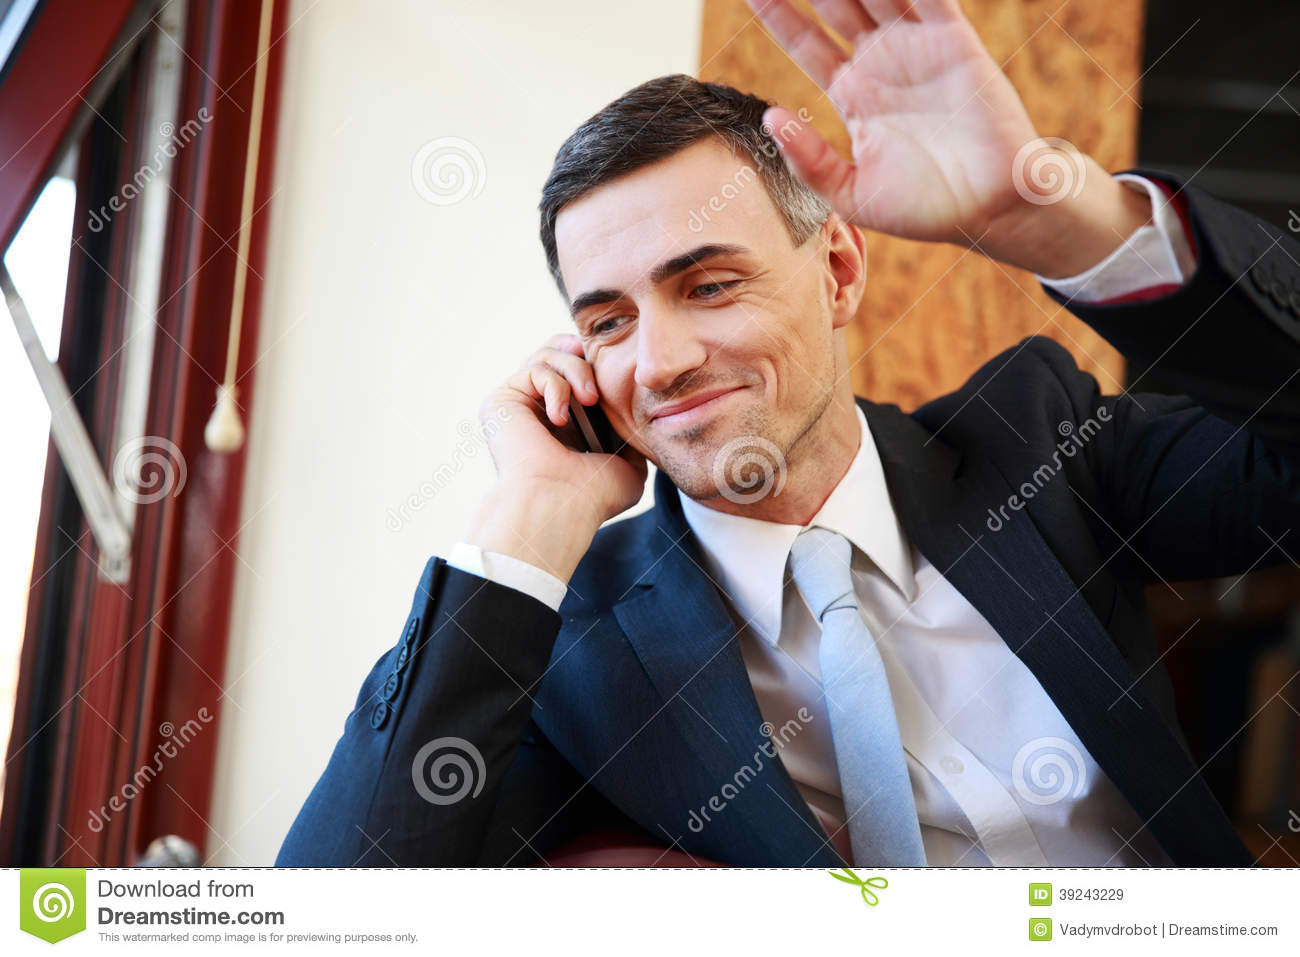talk: (476, 231, 794, 531)
